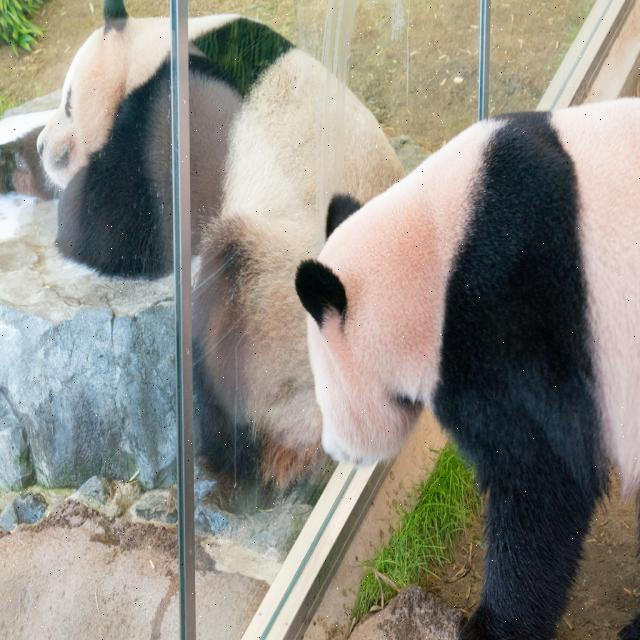panda: (32, 0, 405, 499), (295, 108, 640, 640)
